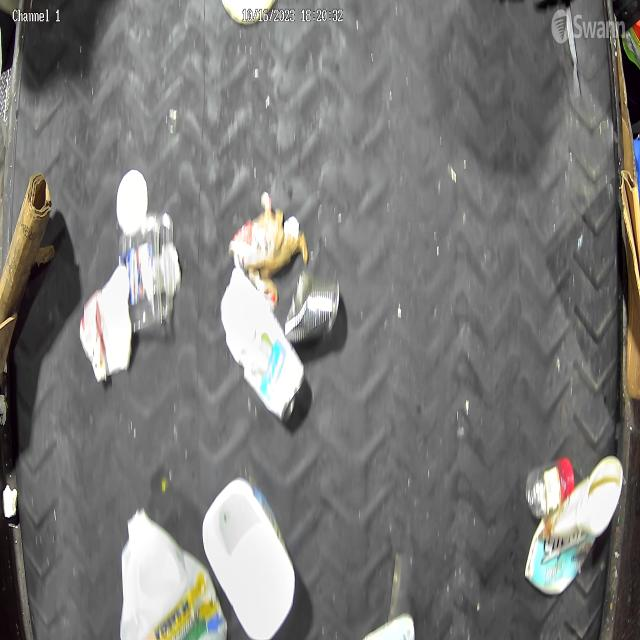can: (284, 270, 342, 346)
milk_jug: (202, 480, 296, 640), (118, 506, 228, 640), (221, 266, 307, 425)
